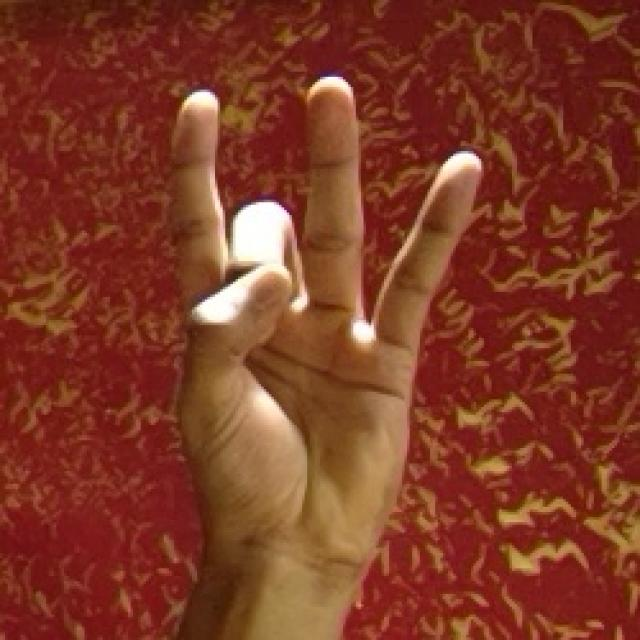Numeric-8: (150, 65, 487, 572)
